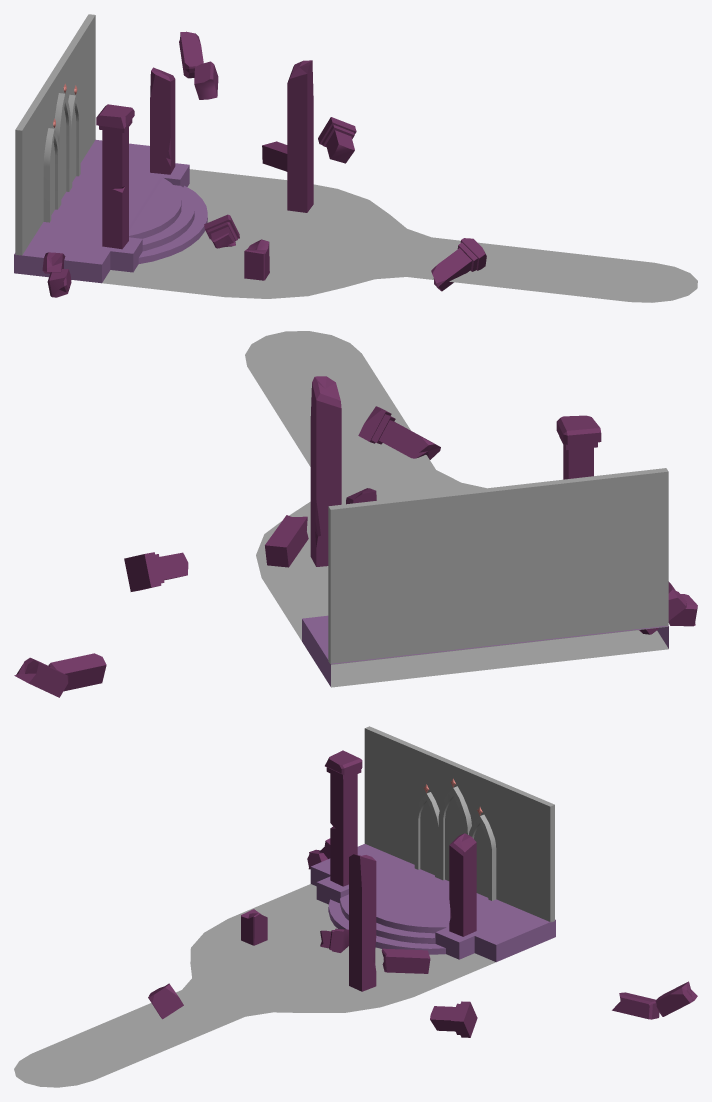
Rendered from env_hub_ruins.fbx.
3 renders of one model, top to bottom at view 1: azimuth 30°, elevation 25°; view 2: azimuth 150°, elevation 25°; view 3: azimuth 270°, elevation 25°, orthographic. The views are drawn at different scales.
Visible parts, largest first — view 1: env_hub_pPlane3, pCube126, basic_wall_cornerpivot3, pillar_4, pillar_7, pillar_5, debris_1, pCube128, pCube125, debris_5, pillar_6, debris_3 (+5 smaller); view 2: basic_wall_cornerpivot3, env_hub_pPlane3, pillar_7, pillar_4, debris_1, pCube126, debris_5, pillar_3, debris_4, debris_3; view 3: env_hub_pPlane3, basic_wall_cornerpivot3, pCube126, pillar_7, pillar_4, pillar_5, pCube125, pCube128, pCube127, debris_5, pillar_3, debris_4 (+4 smaller).
Part boxes in pixels (left/top/right/bottom): env_hub_pPlane3: left=102, top=169, right=697, bottom=302; pCube126: left=14, top=140, right=207, bottom=283; basic_wall_cornerpivot3: left=15, top=14, right=95, bottom=255; pillar_4: left=96, top=104, right=134, bottom=249; pillar_7: left=287, top=60, right=313, bottom=212; pillar_5: left=150, top=67, right=175, bottom=174; debris_1: left=431, top=238, right=486, bottom=291; pCube128: left=43, top=128, right=59, bottom=222; pCube125: left=53, top=93, right=70, bottom=206; debris_5: left=318, top=117, right=356, bottom=163; pillar_6: left=244, top=239, right=269, bottom=280; debris_3: left=179, top=31, right=203, bottom=78; basic_wall_cornerpivot3: left=328, top=468, right=668, bottom=664; env_hub_pPlane3: left=245, top=331, right=668, bottom=687; pillar_7: left=310, top=376, right=341, bottom=566; pillar_4: left=556, top=415, right=601, bottom=479; debris_1: left=358, top=406, right=440, bottom=459; pCube126: left=302, top=615, right=668, bottom=686; debris_5: left=124, top=552, right=188, bottom=591; pillar_3: left=265, top=515, right=308, bottom=567; debris_4: left=48, top=653, right=106, bottom=691; debris_3: left=14, top=657, right=68, bottom=697; env_hub_pPlane3: left=14, top=884, right=495, bottom=1087; basic_wall_cornerpivot3: left=364, top=726, right=554, bottom=922; pCube126: left=310, top=844, right=555, bottom=962; pillar_7: left=349, top=854, right=376, bottom=991; pillar_4: left=325, top=750, right=362, bottom=886; pillar_5: left=449, top=833, right=476, bottom=936; pCube125: left=438, top=786, right=471, bottom=880; pCube128: left=414, top=792, right=439, bottom=878; pCube127: left=469, top=814, right=496, bottom=900; debris_5: left=430, top=1001, right=477, bottom=1037; pillar_3: left=381, top=948, right=430, bottom=973; debris_4: left=612, top=992, right=659, bottom=1019.
Bounding box in the file's own units: 2837 × 877 × 3581.
